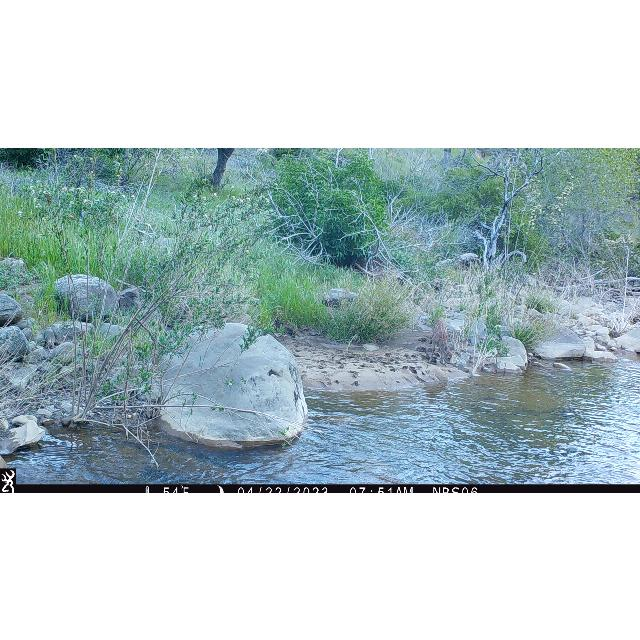animals: (429, 318, 453, 364)
